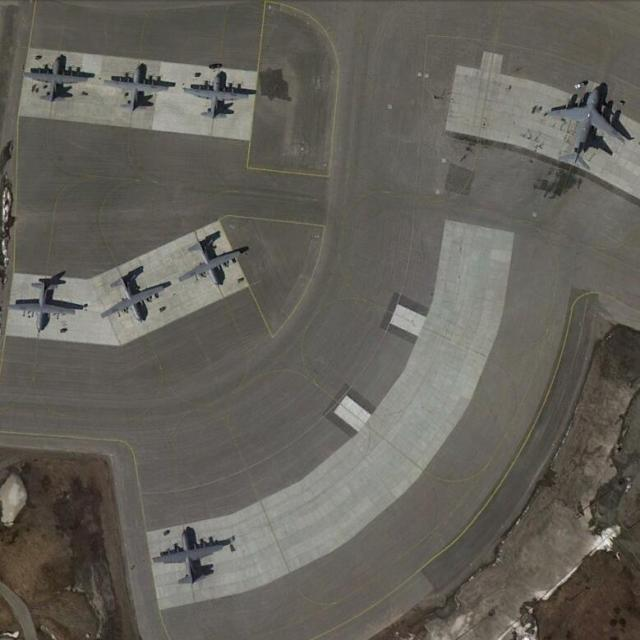fighter jet: (542, 74, 627, 170), (147, 522, 229, 592), (10, 276, 76, 340), (97, 267, 166, 321), (177, 231, 243, 287), (186, 68, 249, 119), (24, 56, 90, 102), (107, 62, 161, 111)
